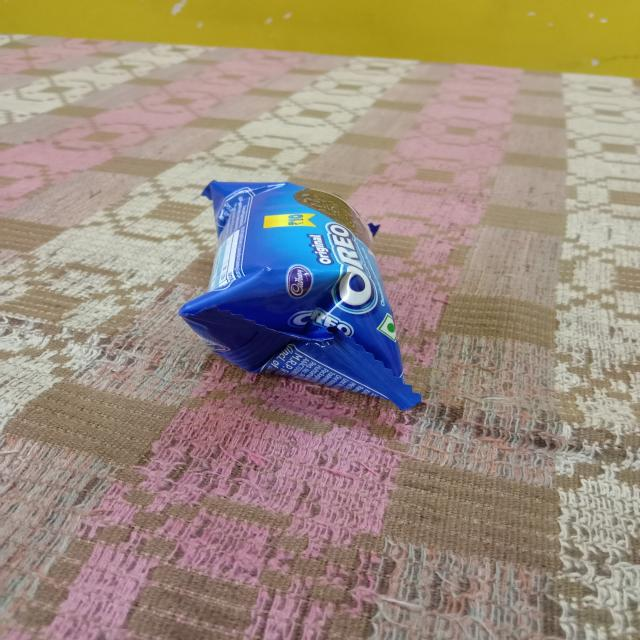oreo biscuit: (182, 168, 424, 416)
